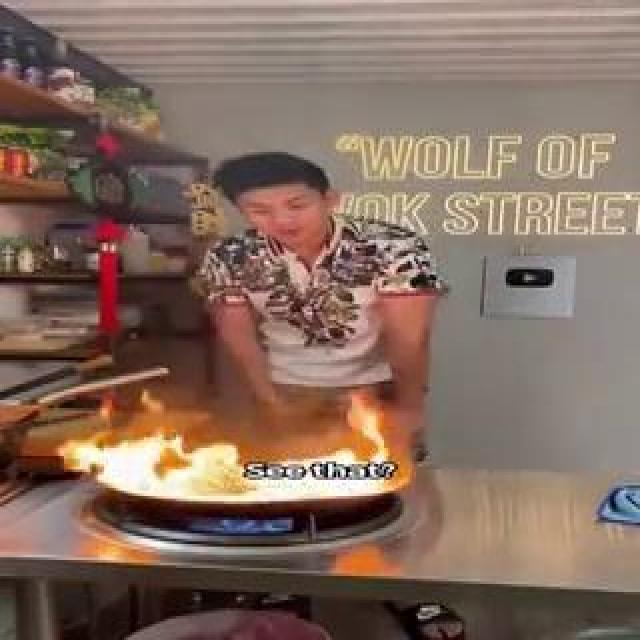Fire: (238, 120, 330, 446)
